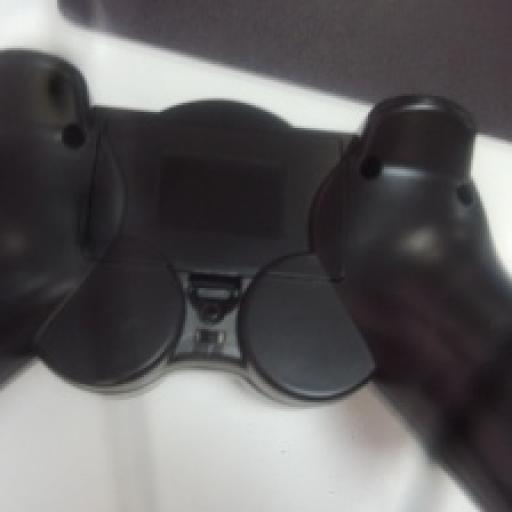game pad: (0, 50, 510, 510)
